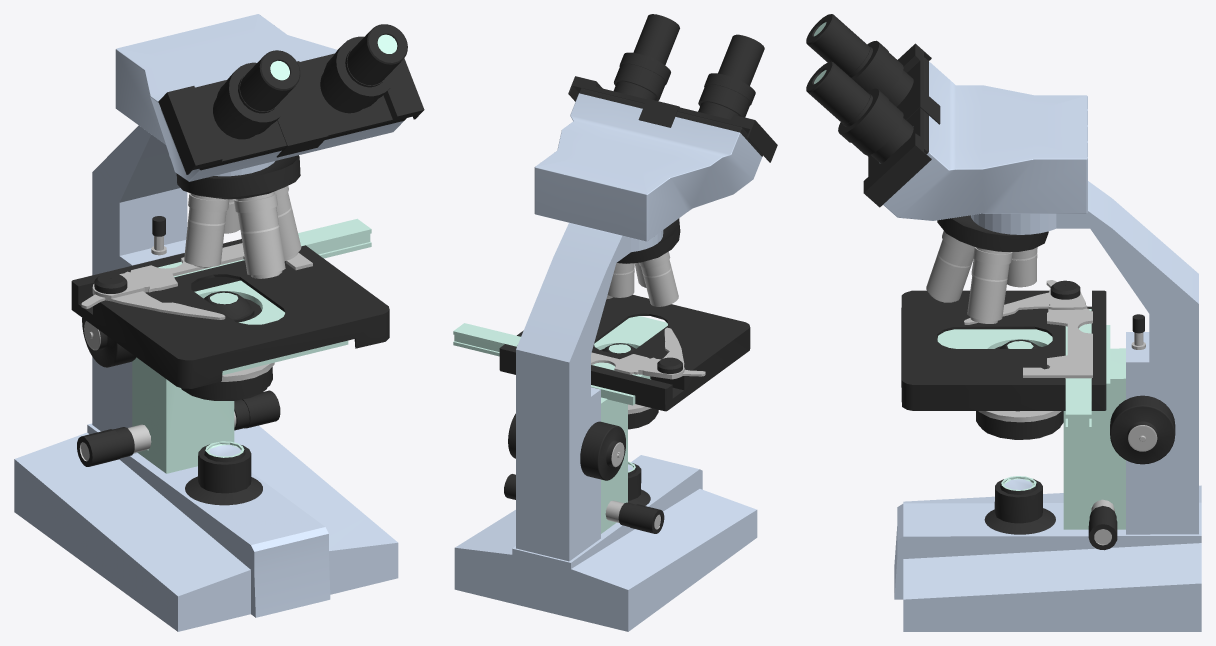
File: microscope.glb
3 views of the same model, side by side, from view 1: azimuth 30°, elevation 25°; view 2: azimuth 150°, elevation 25°; view 3: azimuth 270°, elevation 25° (orthographic). The views are drawn at different scales.
Visible parts, largest first — view 1: base1, Sample stage, Eyepiece, head, base2, Objective lens, base3, Light source, Fine knob, Condenser, Coarse knob; view 2: base2, base1, head, Sample stage, Eyepiece, Objective lens, Coarse knob, base3, Fine knob, Condenser, Light source; view 3: base1, Sample stage, head, base2, Eyepiece, Objective lens, base3, Coarse knob, Light source, Condenser, Fine knob.
Part boxes in pixels (x1,y1,x2,y2): base1: (14, 423, 398, 631); Sample stage: (71, 218, 389, 388); Eyepiece: (158, 24, 424, 174); head: (115, 14, 406, 181); base2: (92, 125, 274, 453); Objective lens: (176, 155, 301, 278); base3: (132, 357, 234, 473); Light source: (185, 441, 262, 505); Fine knob: (77, 390, 280, 466); Condenser: (181, 291, 274, 400); Coarse knob: (82, 318, 136, 367); base2: (516, 223, 663, 561); base1: (454, 455, 757, 631); head: (534, 88, 762, 241); Sample stage: (453, 294, 750, 411); Eyepiece: (568, 14, 777, 162); Objective lens: (606, 218, 680, 306); Coarse knob: (508, 413, 625, 480); base3: (601, 397, 627, 533); Fine knob: (504, 474, 664, 533); Condenser: (600, 343, 658, 429); Light source: (628, 461, 650, 505); base1: (894, 485, 1201, 631); Sample stage: (901, 280, 1110, 430); head: (883, 57, 1087, 220); base2: (970, 181, 1198, 534); Eyepiece: (806, 14, 940, 207); Objective lens: (926, 215, 1048, 323); base3: (1063, 348, 1125, 529); Coarse knob: (1110, 395, 1175, 464); Light source: (984, 476, 1055, 534); Condenser: (976, 339, 1063, 439); Fine knob: (1088, 499, 1117, 550).
Size of the model in its own units: 17.56 by 33.54 by 22.15.
